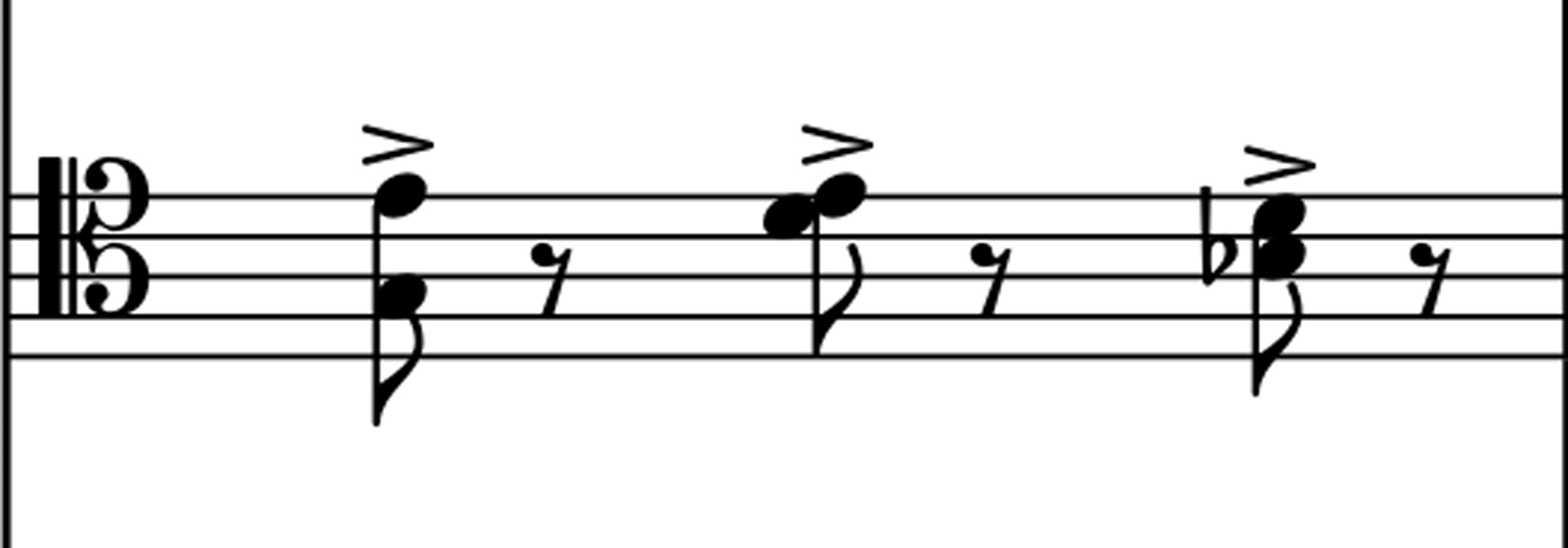articAccentAbove: (362, 125, 433, 164), (1244, 146, 1315, 184), (802, 126, 873, 163)
clefCTenor: (21, 139, 164, 338)
flag8thDown: (813, 242, 861, 356)
noteheadBlackInSpace: (1254, 194, 1305, 235), (1253, 236, 1304, 277), (377, 273, 424, 316), (764, 193, 813, 234)
noteheadBlackOnLine: (374, 173, 425, 216), (815, 174, 865, 216)
rest8th: (532, 244, 571, 316), (973, 245, 1011, 316), (1412, 244, 1450, 315)
restQuarter: (1413, 244, 1451, 316), (975, 244, 1011, 316)
staff: (177, 228, 1352, 329)
